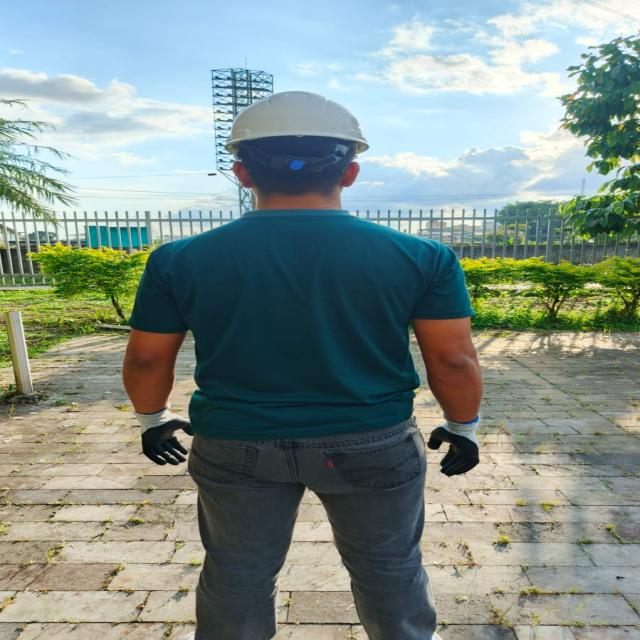gloves: (136, 407, 193, 465), (427, 415, 478, 476)
helmet: (225, 91, 368, 156)
